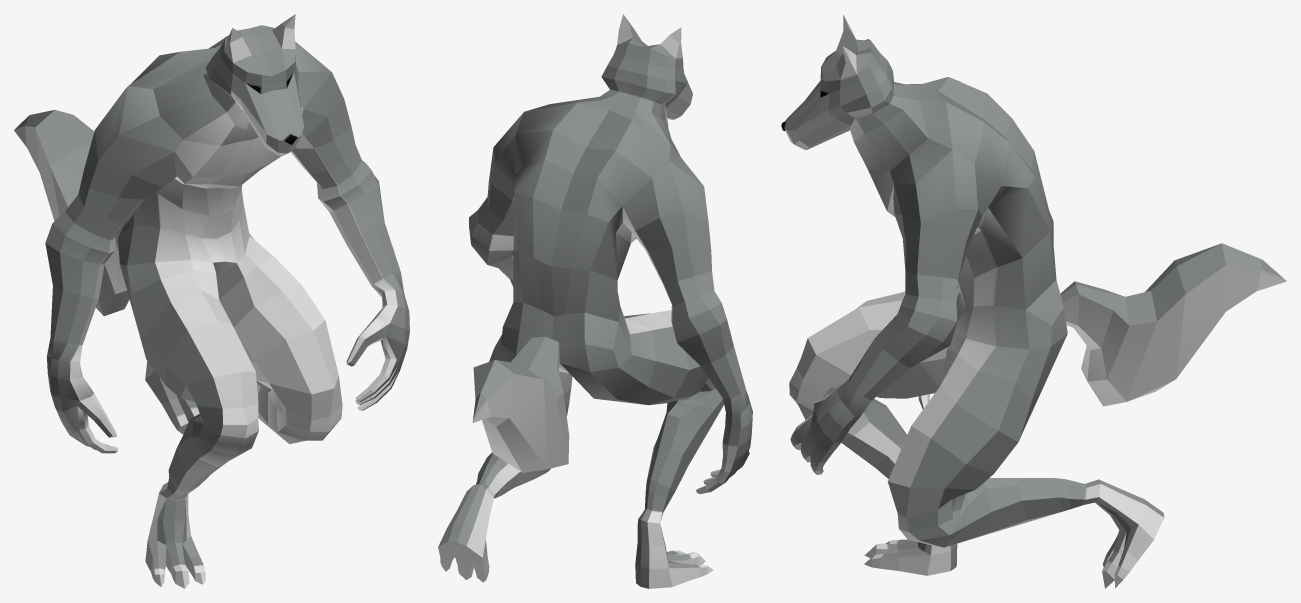
Rendered from WolfWalk(37).obj.
3 views of the same model, side by side, from view 1: azimuth 30°, elevation 25°; view 2: azimuth 150°, elevation 25°; view 3: azimuth 270°, elevation 25° (orthographic). The views are drawn at different scales.
Visible parts, largest first — view 1: Box001; view 2: Box001; view 3: Box001.
Boxes of the visible parts, left/top/right/bottom form: Box001: left=14, top=14, right=409, bottom=588; Box001: left=438, top=14, right=752, bottom=588; Box001: left=781, top=14, right=1286, bottom=588.
Size of the model in its own units: 74.23 by 126 by 103.
